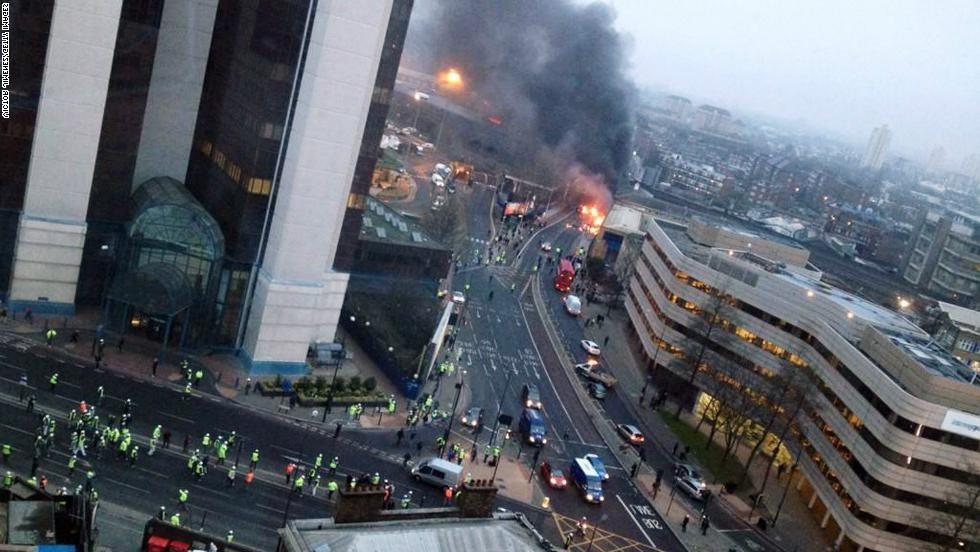Fire: (432, 64, 474, 96), (576, 201, 611, 238)
